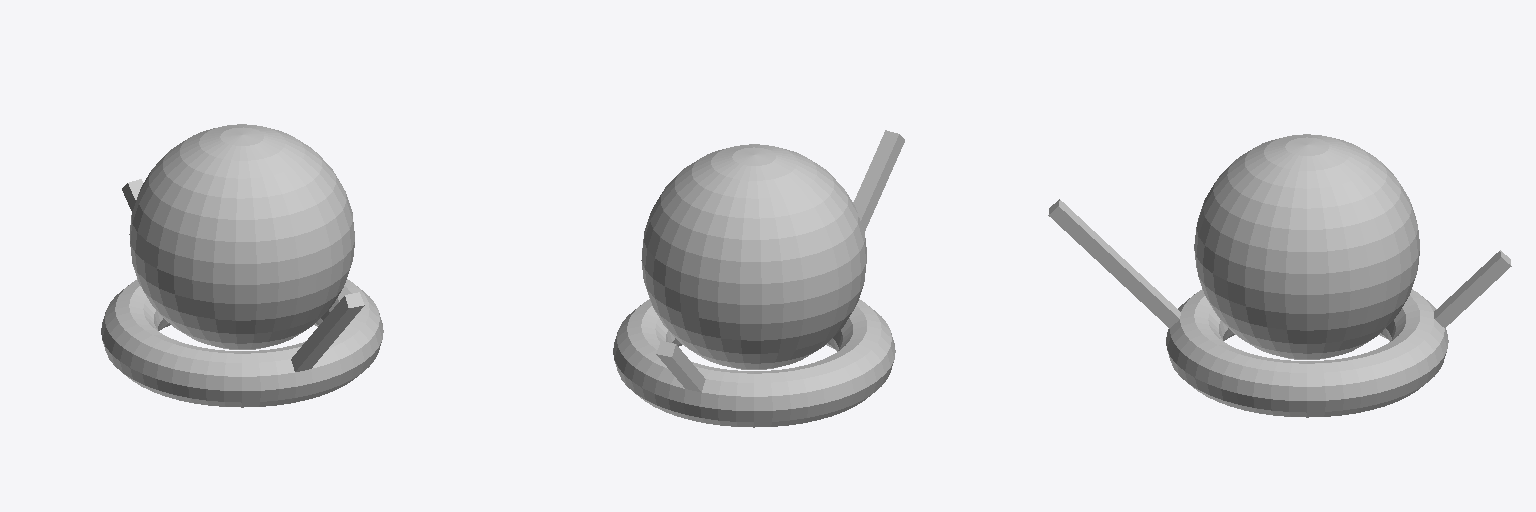
Rendered from TestObject.obj.
3 views of the same model, side by side, from view 1: azimuth 30°, elevation 25°; view 2: azimuth 150°, elevation 25°; view 3: azimuth 270°, elevation 25° (orthographic).
Parts seen in each view (by area): view 1: Sphere, Torus.001; view 2: Sphere, Torus.001; view 3: Sphere, Torus.001.
Part boxes in pixels (left/top/right/bottom): Sphere: left=129, top=124, right=354, bottom=349; Torus.001: left=101, top=179, right=383, bottom=407; Sphere: left=641, top=144, right=866, bottom=369; Torus.001: left=613, top=130, right=904, bottom=427; Sphere: left=1194, top=134, right=1419, bottom=359; Torus.001: left=1048, top=199, right=1511, bottom=417.
Size of the model in its own units: 2.5 by 2.17 by 4.09.